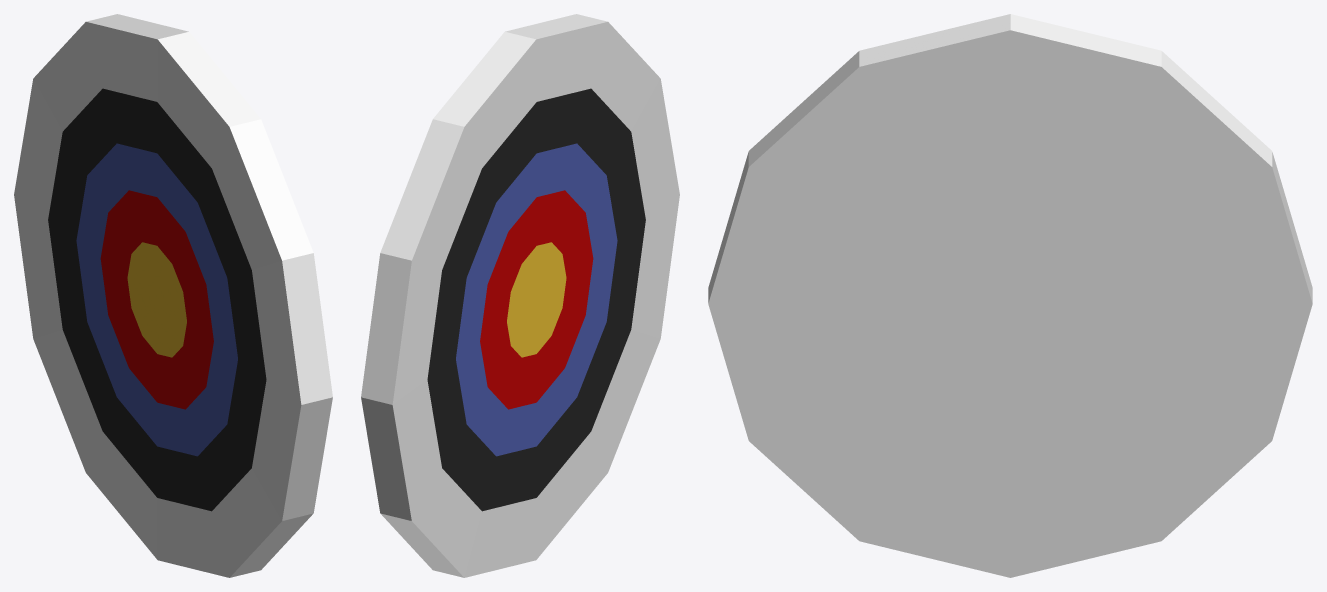
Rendered from Arrow Dart.fbx.
3 views of the same model, side by side, from view 1: azimuth 30°, elevation 25°; view 2: azimuth 150°, elevation 25°; view 3: azimuth 270°, elevation 25° (orthographic). The views are drawn at different scales.
Visible parts, largest first — view 1: Arrow Dart; view 2: Arrow Dart; view 3: Arrow Dart.
Boxes of the visible parts, x1=… form: Arrow Dart: x1=14, y1=14, x2=332, y2=577; Arrow Dart: x1=361, y1=14, x2=679, y2=577; Arrow Dart: x1=708, y1=14, x2=1312, y2=577.
Size of the model in its own units: 0.0287 by 0.4461 by 0.4461.
